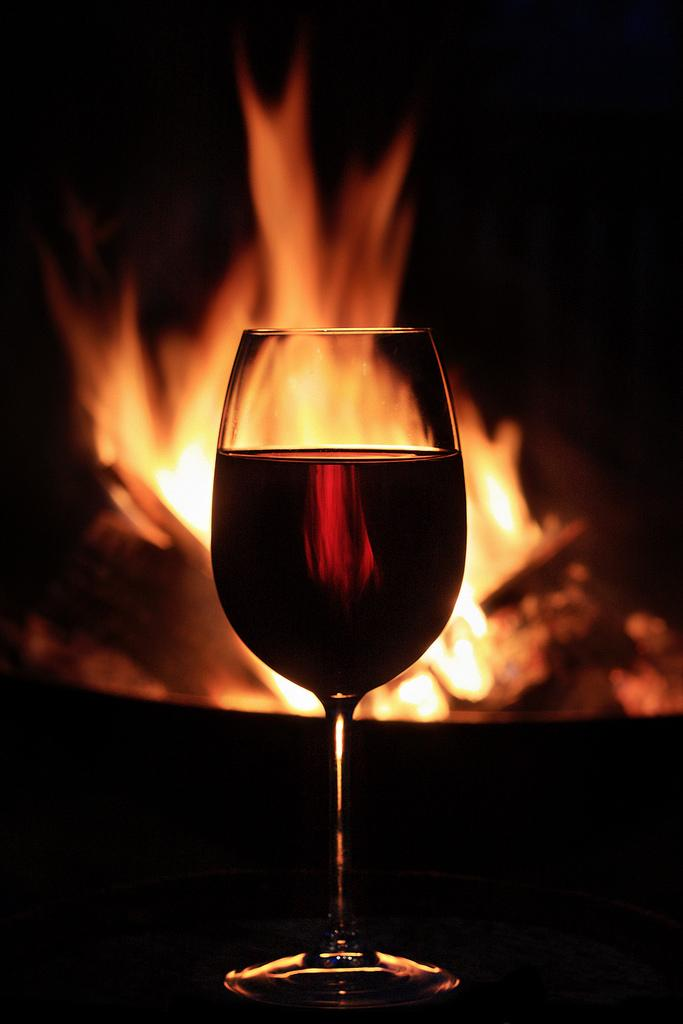fire: (253, 150, 392, 322), (85, 332, 240, 465), (262, 328, 410, 452)
